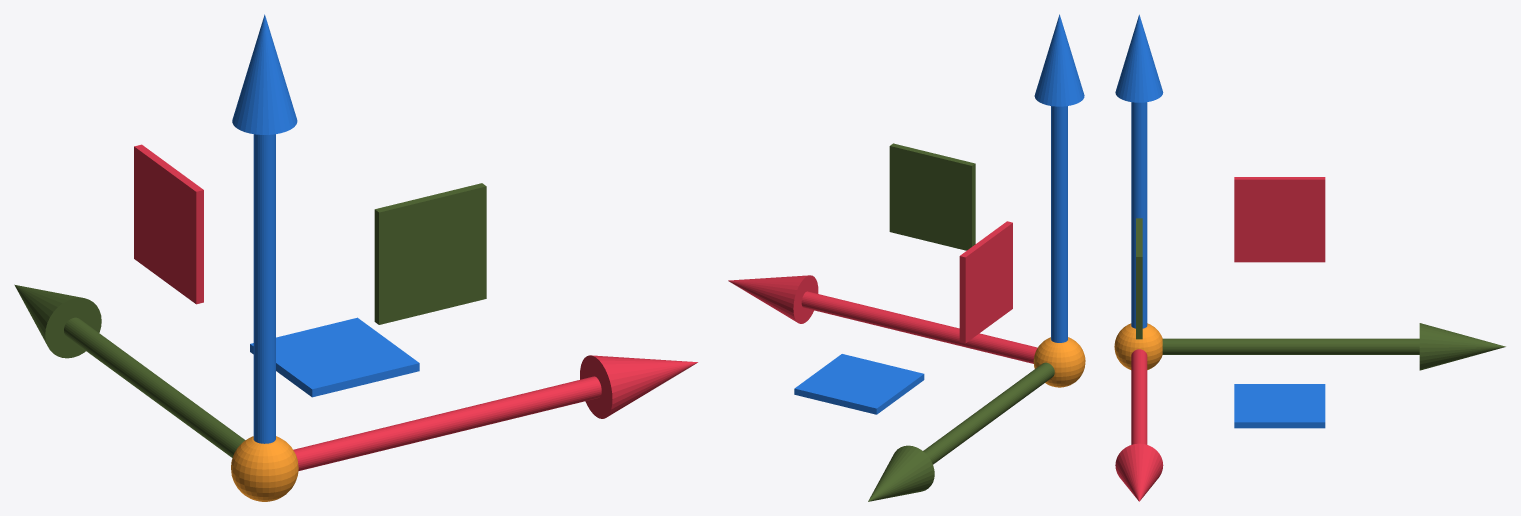
Rendered from Position.fbx.
3 views of the same model, side by side, from view 1: azimuth 30°, elevation 25°; view 2: azimuth 150°, elevation 25°; view 3: azimuth 270°, elevation 25° (orthographic). The views are drawn at different scales.
Visible parts, largest first — view 1: XZ, Z, X, YZ, Y, XY, XYZ; view 2: XZ, Z, X, Y, YZ, XY, XYZ; view 3: YZ, Y, Z, XY, X, XYZ, XZ.
Boxes of the visible parts, x1,y1,x2,y2 form: XZ: (374,183,486,324); Z: (232,14,297,443); X: (293,355,697,471); YZ: (134,144,203,304); Y: (14,284,245,457); XY: (250,317,419,397); XYZ: (231,436,298,501); XZ: (889,143,975,250); Z: (1034,14,1084,342); X: (728,275,1037,363); Y: (868,362,1054,501); YZ: (959,221,1012,343); XY: (794,354,924,414); XYZ: (1033,337,1085,387); YZ: (1234,177,1325,262); Y: (1162,323,1505,370); Z: (1115,14,1163,328); XY: (1234,384,1325,428); X: (1115,349,1163,501); XYZ: (1114,323,1162,369); XZ: (1136,218,1142,339).
Size of the model in its own units: 279 by 279 by 279.
